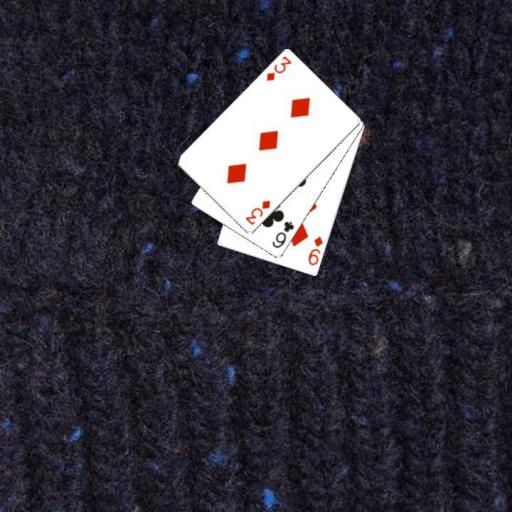3D: (242, 197, 272, 227), (263, 54, 293, 83)
6C: (269, 219, 296, 251)
9D: (305, 234, 324, 268)
